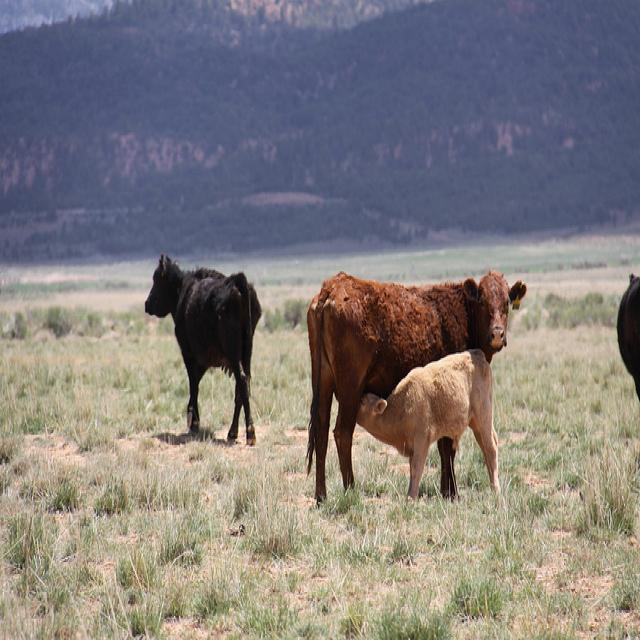cow: (304, 270, 525, 499), (141, 253, 262, 444), (359, 349, 501, 504), (614, 271, 638, 394)
